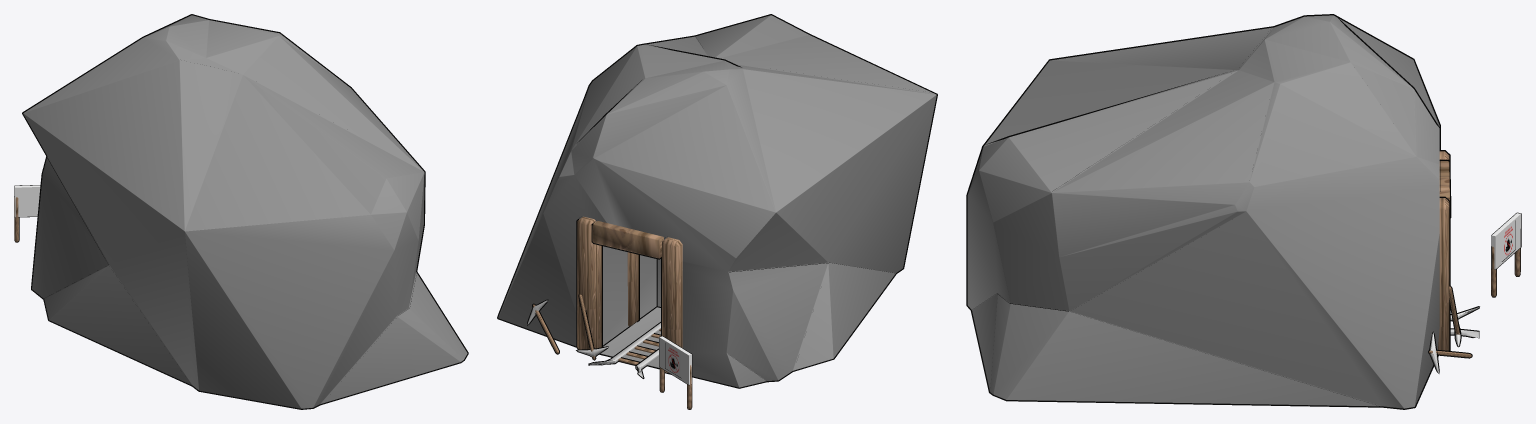
The model's file is mine.glb.
The picture shows the model from 3 angles, left to right: view 1: azimuth 30°, elevation 25°; view 2: azimuth 150°, elevation 25°; view 3: azimuth 270°, elevation 25°; orthographic projection. The views are drawn at different scales.
Visible parts, largest first — view 1: Cube.001, Shadow, Cube.006; view 2: Cube.001, Shadow, Cube.006, Cube.011, Cube.005; view 3: Cube.001, Shadow, Cube.006.
Boxes of the visible parts, left/top/right/bottom form: Cube.001: left=23, top=15, right=467, bottom=408; Shadow: left=22, top=14, right=468, bottom=409; Cube.006: left=14, top=185, right=40, bottom=242; Cube.001: left=498, top=15, right=936, bottom=387; Shadow: left=497, top=14, right=937, bottom=388; Cube.006: left=659, top=336, right=691, bottom=409; Cube.011: left=590, top=323, right=660, bottom=377; Cube.005: left=588, top=322, right=660, bottom=378; Cube.001: left=967, top=15, right=1449, bottom=408; Shadow: left=966, top=14, right=1451, bottom=409; Cube.006: left=1491, top=213, right=1520, bottom=296.
Size of the model in its own units: 17.35 by 14.57 by 24.82.
Materials: 8 (5 with a texture image).
